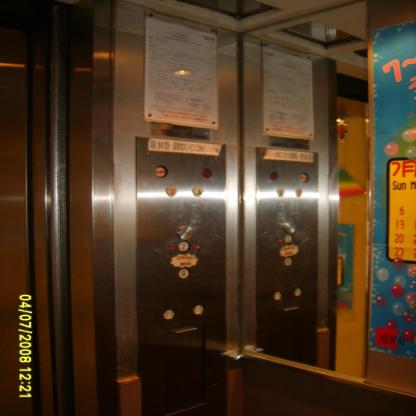2: (176, 240, 191, 252)
G: (176, 267, 191, 280)
blur: (152, 164, 169, 178), (160, 308, 175, 321), (190, 304, 206, 316), (270, 289, 284, 302), (291, 285, 304, 298), (298, 172, 310, 184)
down: (165, 185, 178, 197)
empty: (175, 224, 195, 240), (199, 166, 215, 180), (282, 220, 298, 233), (266, 170, 280, 183)
unknown: (281, 232, 294, 244), (282, 257, 296, 268)
up: (190, 186, 204, 198), (275, 187, 286, 198)
